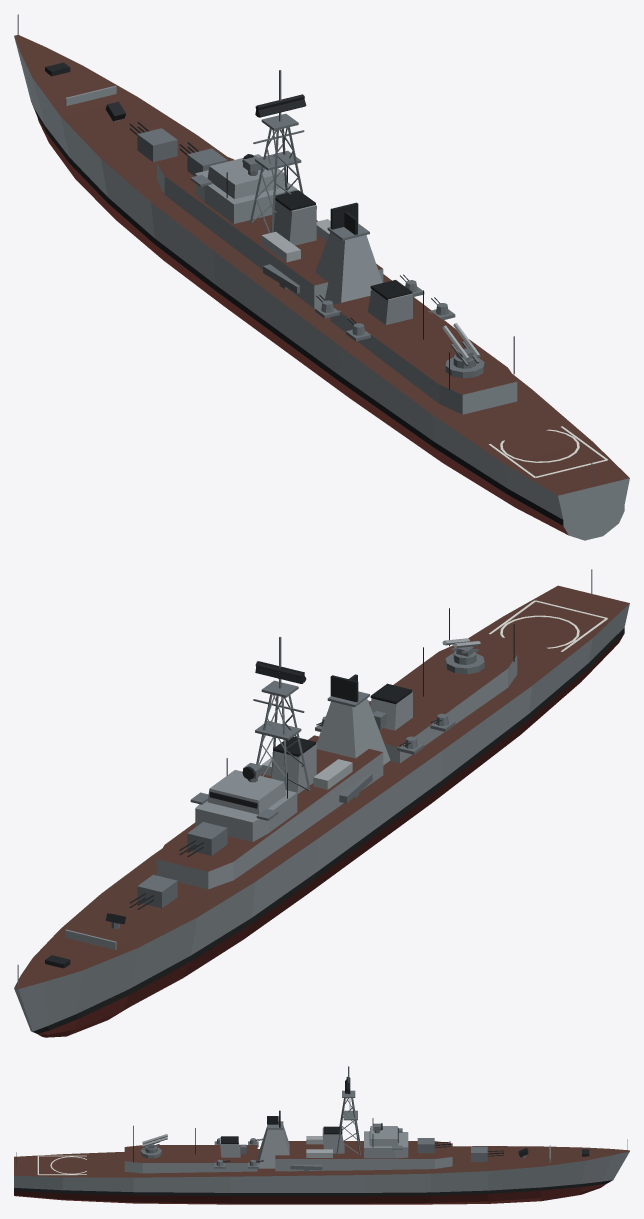
The model's file is kanin.glb.
3 views of the same model, one above another, from view 1: azimuth 30°, elevation 25°; view 2: azimuth 150°, elevation 25°; view 3: azimuth 270°, elevation 25° (orthographic). The views are drawn at different scales.
Parts seen in each view (by area): view 1: Hull, Aft deckhouse, Fwd deckhouse, Radar tower, Bridge, Pilothouse, Fwd funnel, Aft funnel, ZIF-75 fwd house, Boat; view 2: Hull, Fwd deckhouse, Aft deckhouse, Radar tower, Bridge, Pilothouse, Fwd funnel, ZIF-75 superfiring house, ZIF-75 fwd house, Aft funnel, Boat; view 3: Hull, Fwd deckhouse, Aft deckhouse, Radar tower, Bridge, Pilothouse, Fwd funnel, Aft funnel, ZIF-75 superfiring house, ZIF-75 fwd house, Boat.001, Helipad square.
Boxes of the visible parts, bbox=[...] form: Hull: bbox=[14, 35, 629, 540]; Aft deckhouse: bbox=[330, 296, 517, 414]; Fwd deckhouse: bbox=[156, 153, 383, 308]; Radar tower: bbox=[315, 232, 382, 304]; Bridge: bbox=[195, 170, 297, 223]; Pilothouse: bbox=[207, 154, 284, 199]; Fwd funnel: bbox=[270, 200, 316, 245]; Aft funnel: bbox=[367, 289, 412, 324]; ZIF-75 fwd house: bbox=[137, 128, 177, 162]; Boat: bbox=[261, 231, 300, 262]; Hull: bbox=[14, 585, 629, 1037]; Fwd deckhouse: bbox=[156, 735, 383, 889]; Aft deckhouse: bbox=[369, 645, 517, 763]; Radar tower: bbox=[316, 698, 390, 765]; Bridge: bbox=[195, 790, 297, 841]; Pilothouse: bbox=[207, 770, 286, 814]; Fwd funnel: bbox=[271, 743, 316, 794]; ZIF-75 superfiring house: bbox=[187, 822, 227, 855]; ZIF-75 fwd house: bbox=[137, 874, 177, 908]; Aft funnel: bbox=[370, 690, 412, 730]; Boat: bbox=[313, 759, 352, 789]; Hull: bbox=[14, 1146, 629, 1204]; Fwd deckhouse: bbox=[275, 1141, 452, 1171]; Aft deckhouse: bbox=[124, 1145, 257, 1173]; Radar tower: bbox=[257, 1125, 289, 1168]; Bridge: bbox=[364, 1131, 408, 1158]; Pilothouse: bbox=[369, 1126, 398, 1146]; Fwd funnel: bbox=[322, 1127, 344, 1153]; Aft funnel: bbox=[220, 1137, 240, 1157]; ZIF-75 superfiring house: bbox=[417, 1138, 434, 1153]; ZIF-75 fwd house: bbox=[471, 1146, 487, 1161]; Boat.001: bbox=[306, 1149, 332, 1157]; Helipad square: bbox=[37, 1155, 86, 1175].
Size of the model in its own units: 14.6 by 33.4 by 139.
